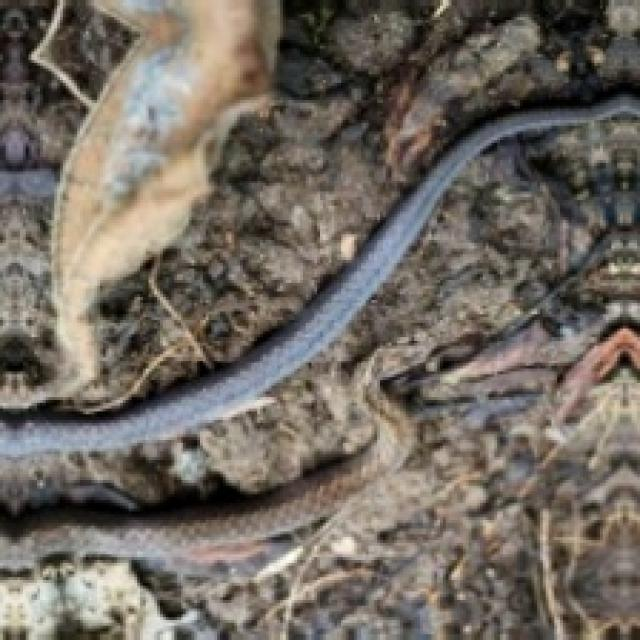reinhardts lined snake: (0, 94, 637, 460), (0, 94, 637, 454), (0, 343, 434, 568)
